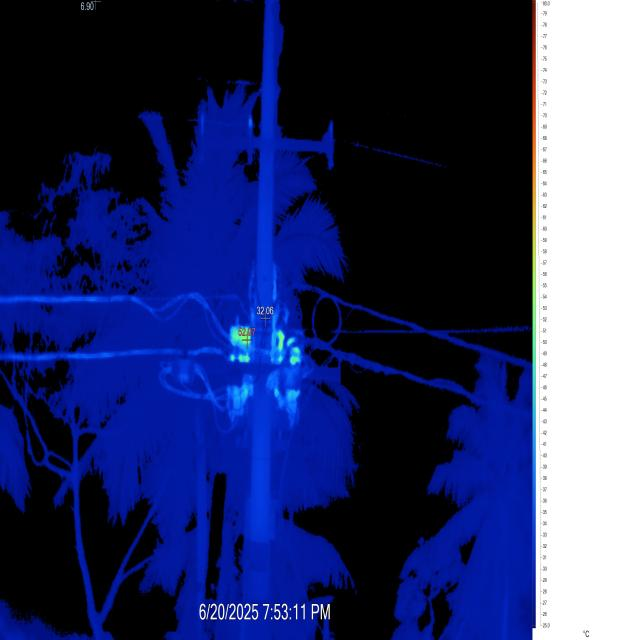Transformer: (0, 5, 538, 581)
